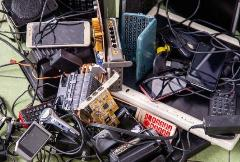electronic: (120, 10, 160, 84), (21, 18, 97, 54), (182, 34, 224, 92), (10, 113, 59, 162), (208, 86, 238, 140), (47, 46, 91, 78)
